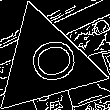O_W: (15, 35, 77, 91)
